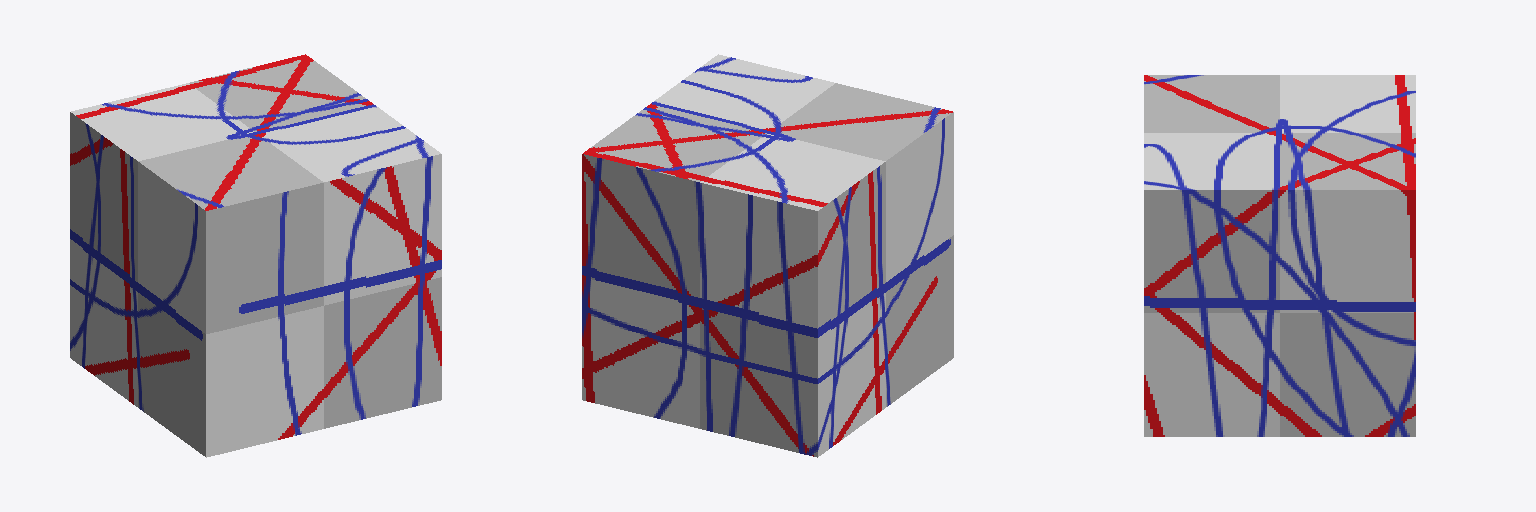
The picture shows the model from 3 angles: view 1: azimuth 30°, elevation 25°; view 2: azimuth 150°, elevation 25°; view 3: azimuth 270°, elevation 25°; orthographic projection.
Parts seen in each view (by area): view 1: Cube; view 2: Cube; view 3: Cube.
Part boxes in pixels (left/top/right/bottom): Cube: left=70, top=54, right=441, bottom=457; Cube: left=582, top=54, right=953, bottom=457; Cube: left=1144, top=75, right=1415, bottom=436.
Bounding box in the file's own units: 2 × 2 × 2.
1 materials, 1 textured.